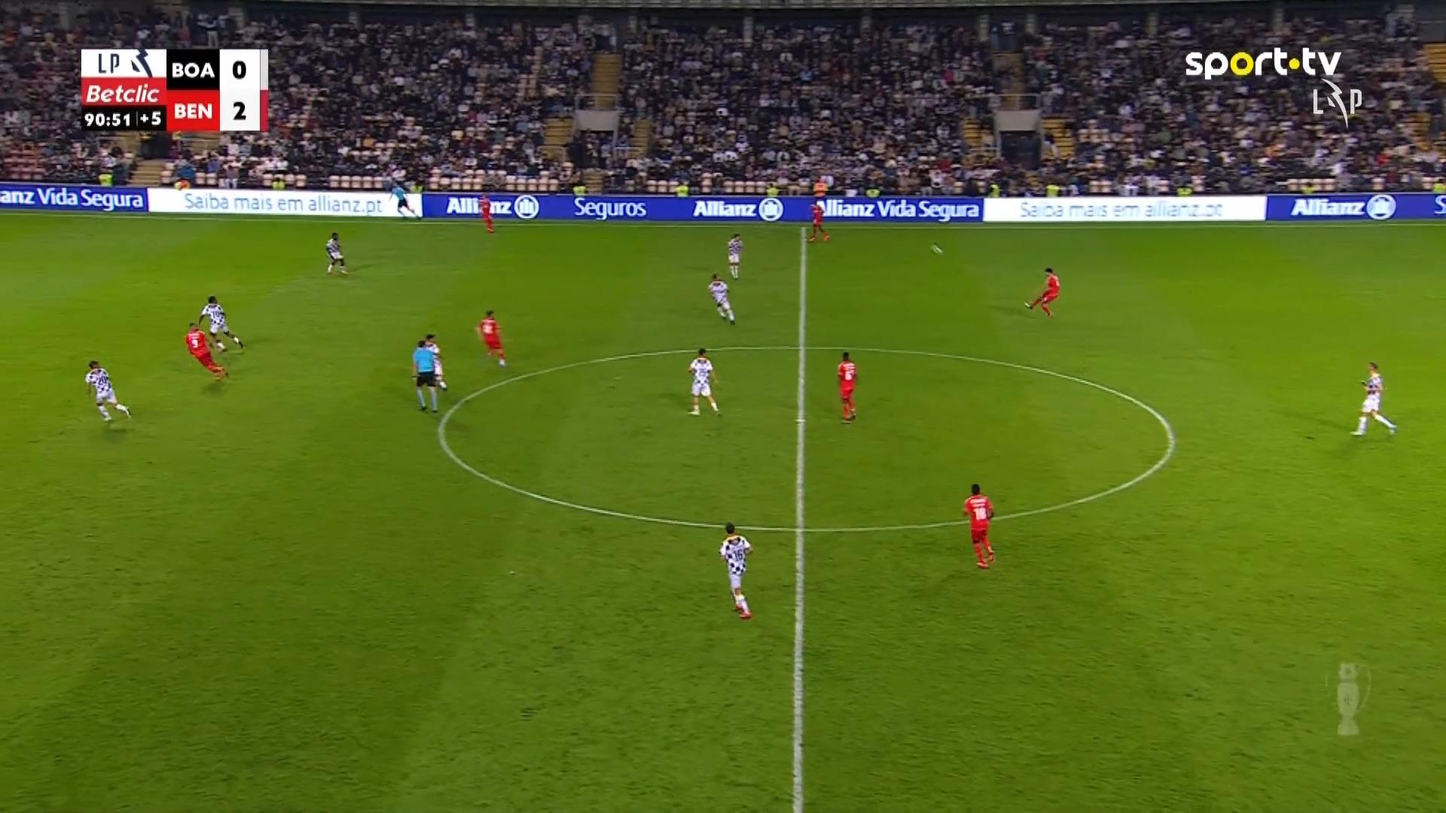ball: (929, 242, 943, 254)
player: (1350, 361, 1398, 436), (718, 521, 753, 619), (84, 359, 131, 422), (962, 483, 996, 568), (197, 294, 243, 352), (185, 321, 228, 379), (687, 347, 720, 416), (1024, 266, 1060, 318), (476, 309, 508, 367), (836, 350, 857, 421), (707, 273, 735, 324), (423, 333, 447, 391), (324, 231, 346, 275), (807, 201, 829, 242), (726, 232, 743, 279), (477, 193, 495, 233)
referee: (410, 337, 440, 413), (387, 179, 420, 219)
